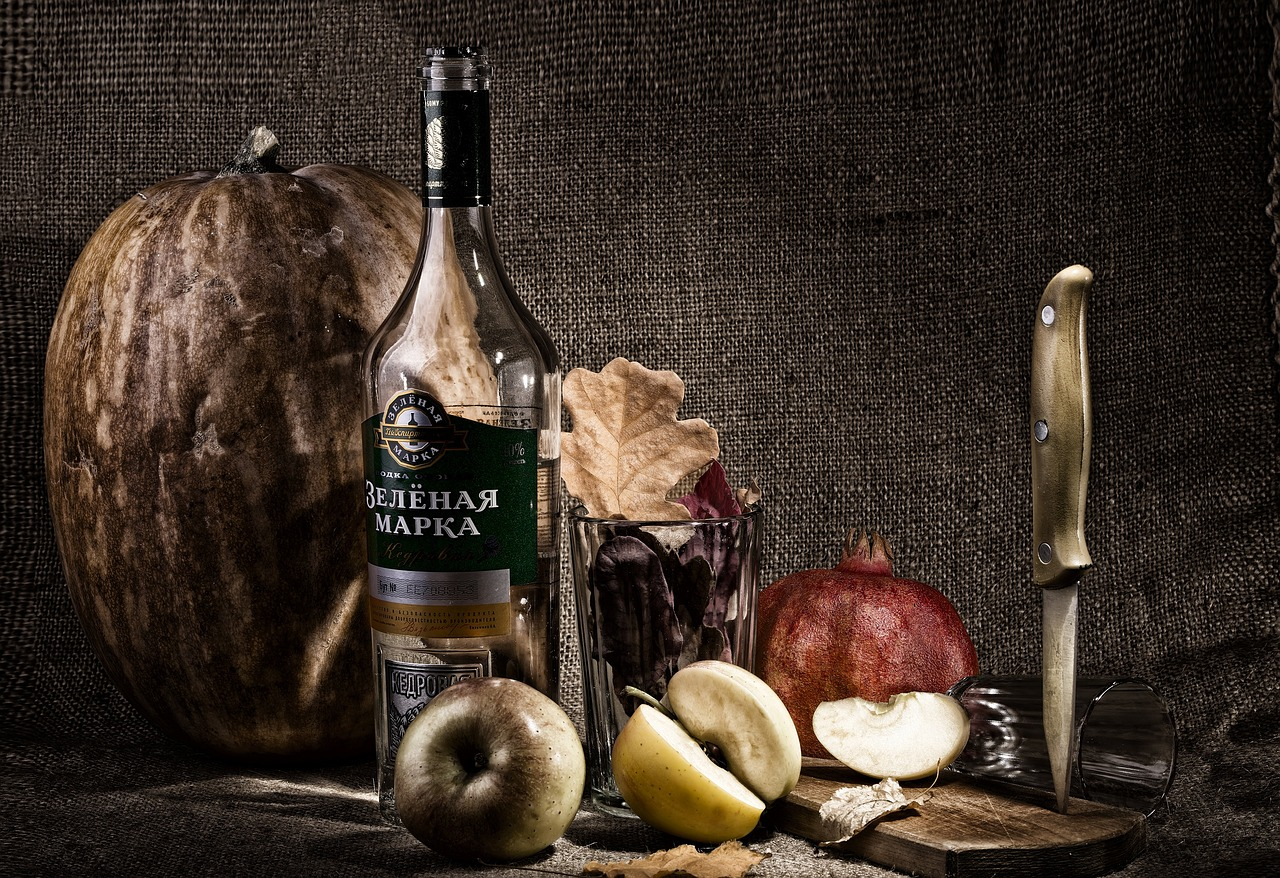alcohol: (366, 32, 571, 828)
knife: (1018, 240, 1096, 830)
